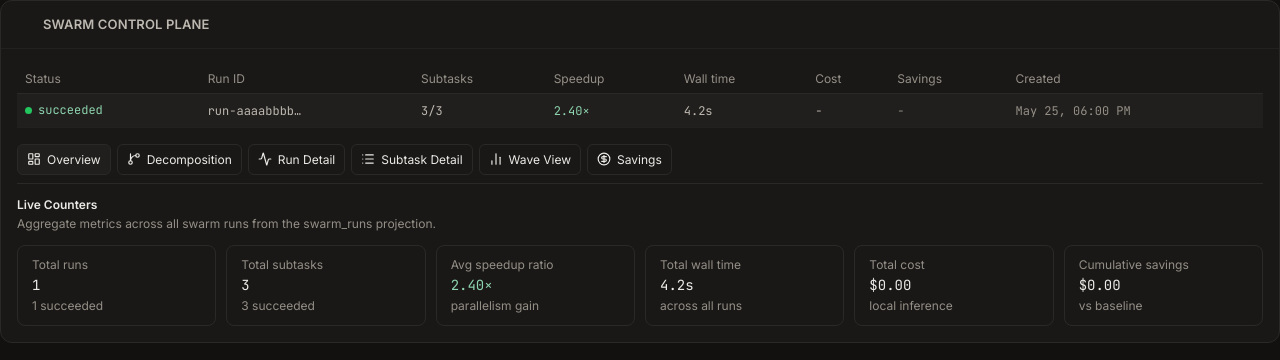
SwarmControlPlane › handles runs with zero cost/savings gracefully
Click the tab "Savings": (629, 159) [587,144,672,175]
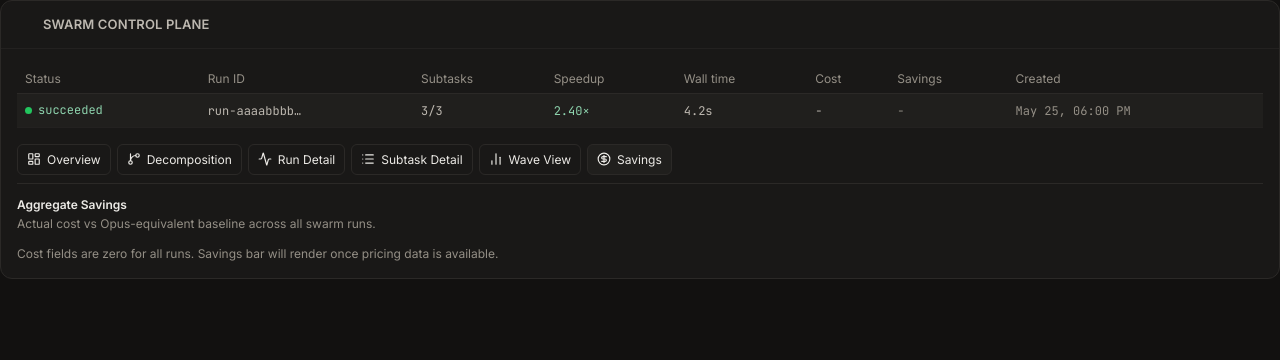
Expected: the text "Cost fields are zero" is shown, [17,246,498,261]
